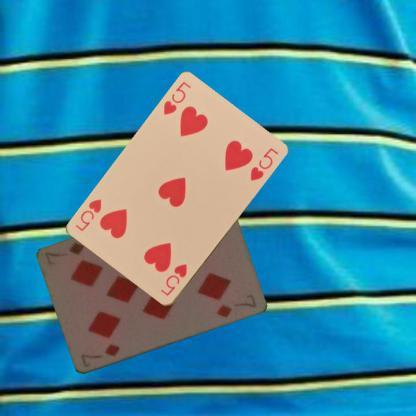5h: (160, 80, 192, 116), (158, 261, 189, 298)
7d: (77, 341, 121, 369)
